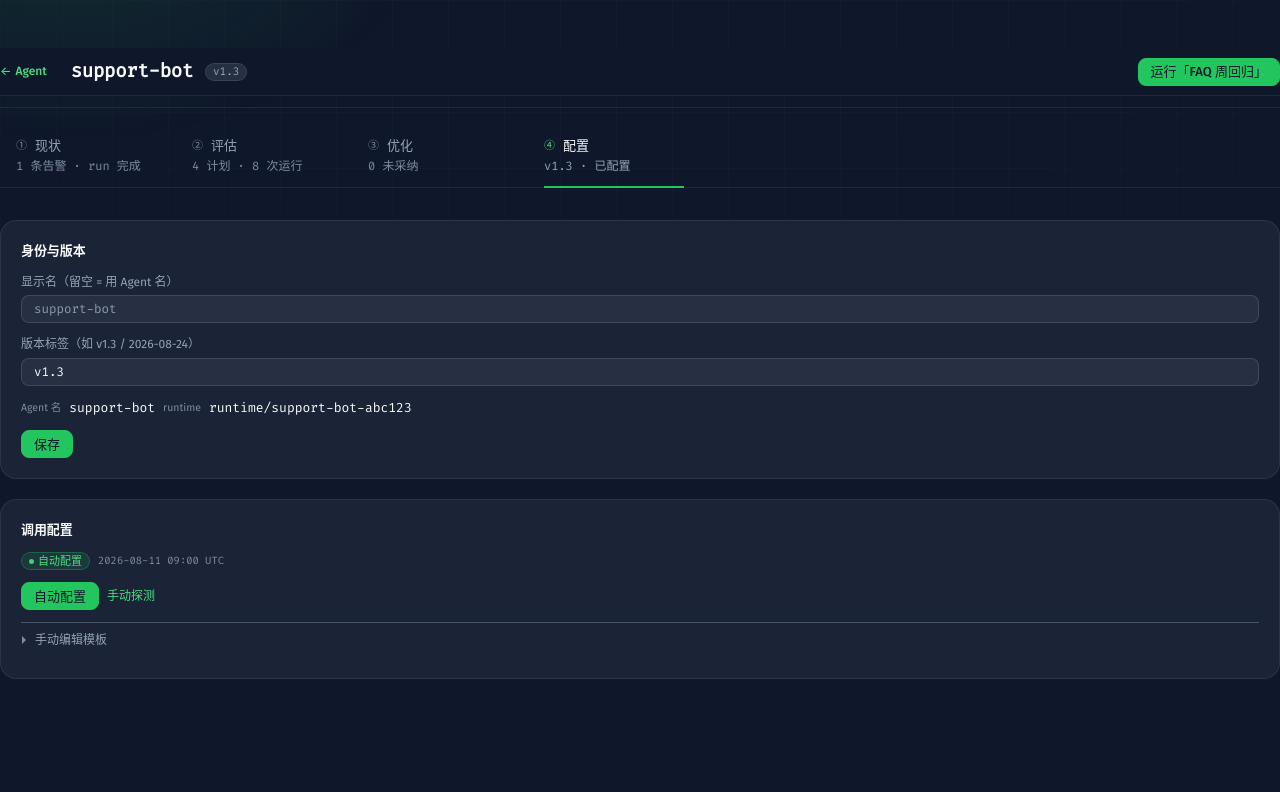
AgentDetailPage 自动配置 › 态 unchanged：绿 ✓ + 「一致未修改」说明
The image size is (1280, 792).
Click the button with test id "agent-autoconf-btn" at (60, 596), box [21,582,99,610]
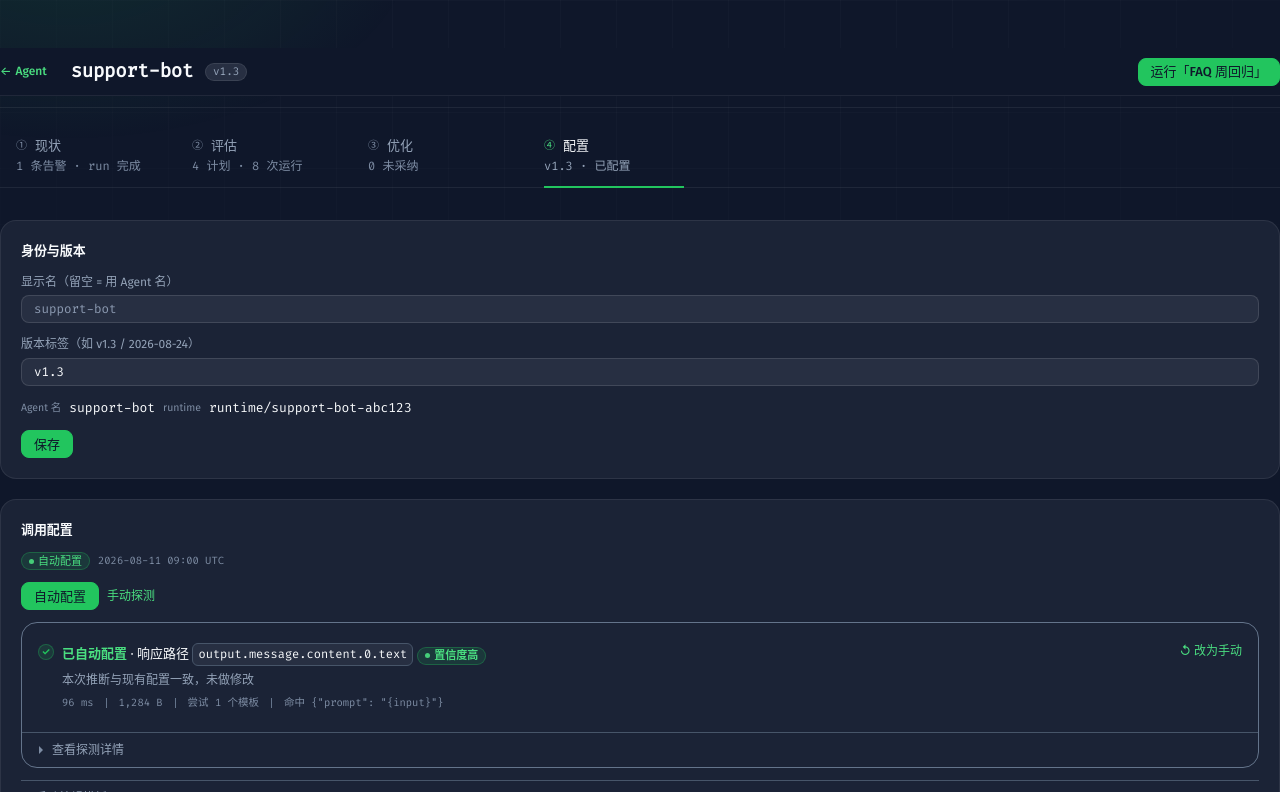
Expected: the element with test id "autoconf-unchanged" shows "已自动配置", [62,646,127,661]
Expected: the element with test id "autoconf-unchanged" shows "与现有配置一致，未做修改", [62,673,254,687]
Expected: the text with test id "autoconf-path" reads "output.message.content.0.text", [198,646,407,662]
